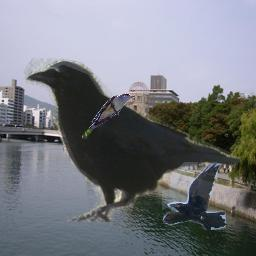Crow: (20, 56, 240, 222), (162, 162, 226, 230)
Cuckoo: (82, 93, 136, 139)
